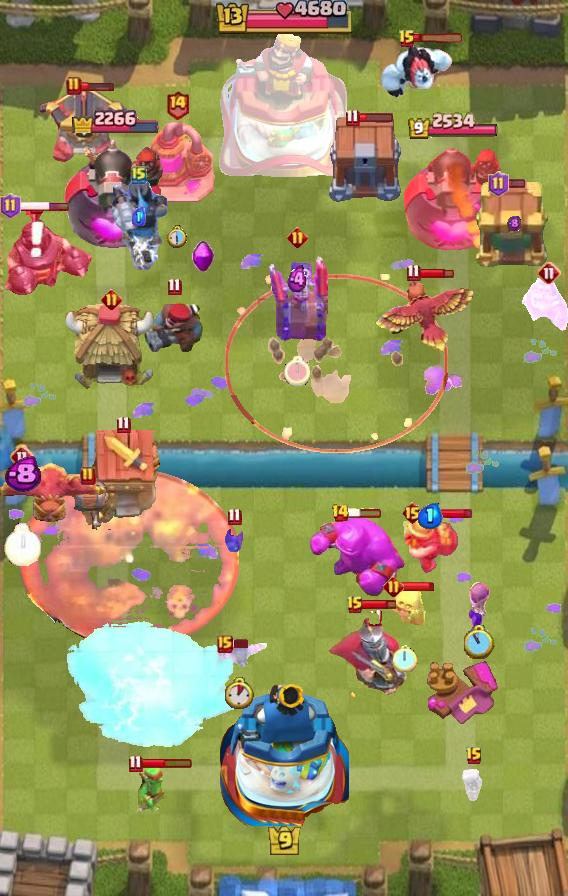bandit: (399, 510, 461, 576)
barbarian: (209, 640, 269, 670)
barbarian-barrel: (221, 526, 247, 554)
bat-evolution: (384, 584, 426, 628)
bomb: (475, 181, 553, 269), (326, 117, 404, 203)
clock: (213, 0, 355, 38)
clone: (305, 514, 407, 598)
electro-spirit: (3, 455, 40, 493), (417, 503, 442, 529), (288, 266, 309, 294), (132, 206, 146, 225), (507, 216, 521, 232)
elixir: (3, 523, 40, 566), (464, 625, 495, 659), (225, 677, 254, 709), (284, 356, 310, 386), (394, 644, 419, 672), (167, 224, 188, 248)
emote: (422, 508, 473, 521), (140, 757, 193, 769), (16, 201, 70, 212), (413, 33, 465, 44), (362, 597, 398, 610), (347, 507, 383, 519), (80, 80, 115, 92), (419, 267, 454, 279), (358, 112, 395, 123), (401, 581, 435, 592), (230, 638, 250, 650), (507, 178, 526, 189)
firecracker-evolution: (522, 274, 568, 332)
giant-snowball: (125, 764, 169, 814)
goblin: (466, 579, 493, 617)
golden-knight: (372, 277, 478, 355)
guard: (224, 274, 447, 454)
heal-spirit: (461, 769, 487, 803)
inferno-dragon: (109, 174, 169, 270)
king-tower: (218, 27, 350, 181), (219, 678, 349, 826)
knight: (64, 476, 112, 530)
lava-pup: (39, 82, 131, 164)
mega-knight: (62, 618, 246, 754)
mother-witch: (0, 461, 114, 527)
pekka: (138, 122, 216, 204)
phoenix-egg: (19, 469, 239, 651)
phoenix-small: (142, 300, 206, 354)
prince: (64, 302, 158, 392)
rage: (379, 42, 455, 98)
royal-guardian: (0, 208, 96, 298)
selected: (69, 103, 159, 133), (407, 112, 499, 140)
skeleton-king-bar: (266, 252, 328, 342)
skeleton-king-skill: (191, 240, 214, 274)
sparky: (80, 429, 166, 527)
text: (165, 88, 190, 119), (537, 261, 561, 285), (10, 445, 34, 469), (400, 501, 423, 525), (488, 171, 509, 197), (0, 193, 20, 219), (383, 575, 405, 597), (288, 227, 309, 249), (101, 289, 122, 310), (331, 503, 350, 523), (398, 29, 416, 49), (346, 595, 364, 615), (465, 746, 483, 766), (66, 76, 82, 96), (131, 165, 147, 185), (80, 466, 96, 486), (217, 635, 233, 653), (344, 108, 359, 127), (406, 262, 421, 281), (129, 755, 144, 774), (167, 276, 181, 295), (117, 414, 131, 433), (227, 507, 241, 525)
tower-bar: (60, 132, 167, 256), (404, 138, 505, 256)
wall-breaker-evolution: (325, 602, 409, 700)
